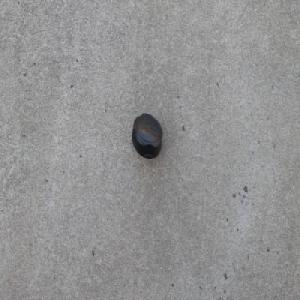FuelCap: (131, 112, 162, 159)
